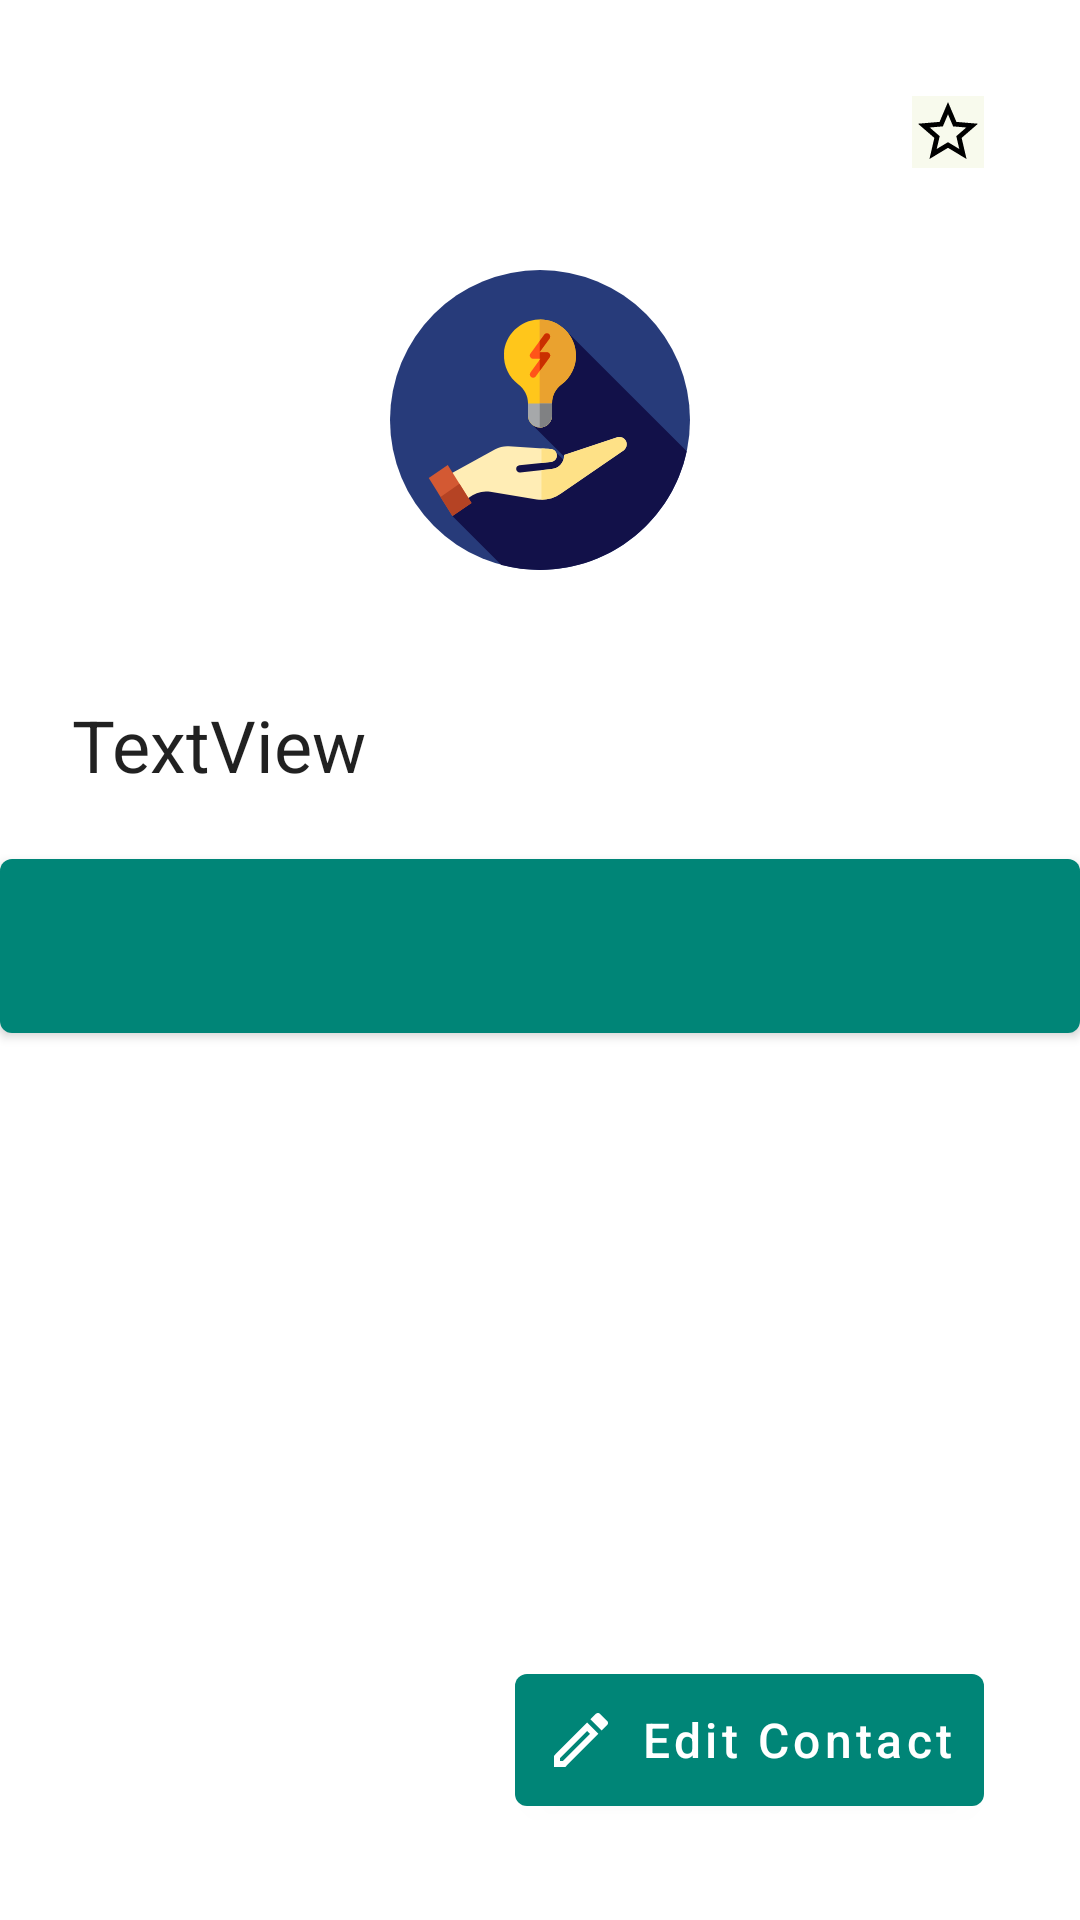

Named icons in this screenshot (1080w x 1920h) and their bounding boxes, box(x1, y1, x2, y2):
favourite outilne: box(912, 96, 984, 168)
